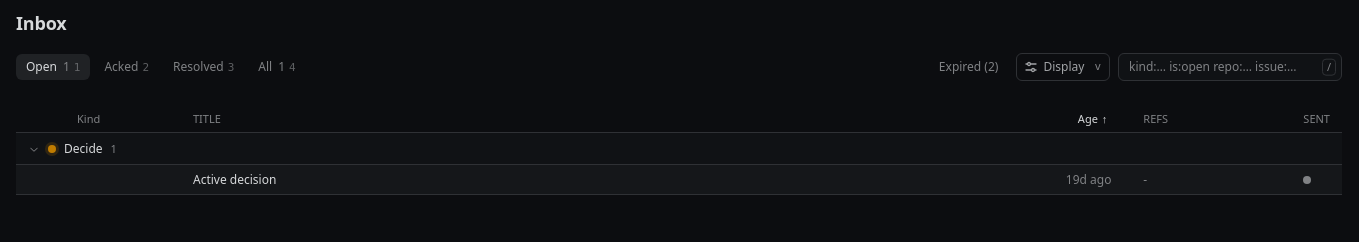
Scenario: Inbox view › hides expired open items by default and shows only them from the Expired chip
Expected: the text "Active decision" is shown, [193,171,276,188]
Expected: the text "Expired by kind" is not shown
What coordinates should you click on to do the following:
click the button "Expired (2)"
I would click on:
 (969, 67)
Its box is [929,54,1008,80].
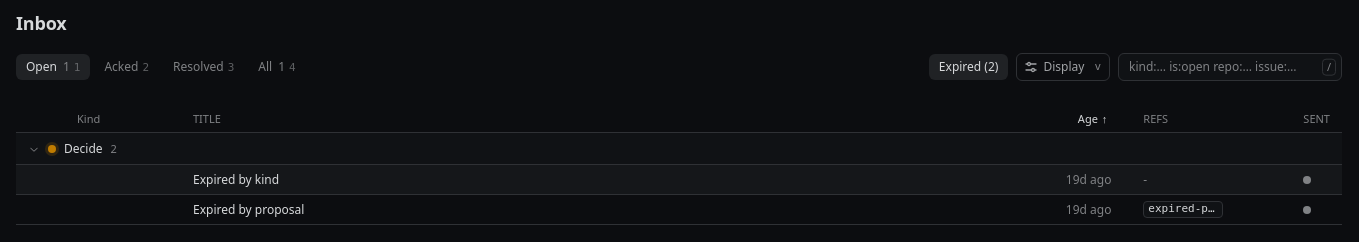
Result: the text "Expired by kind" is shown at [193,171,279,188]
Result: the text "Expired by proposal" is shown at [193,201,304,218]
Result: the text "Active decision" is gone
What coordinates should you click on to do the following:
click the tab "Resolved3"
I would click on:
 (204, 67)
Its box is [163,54,244,80].
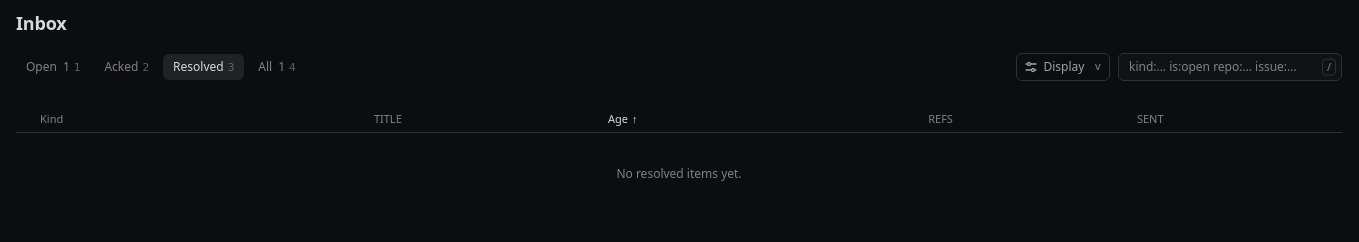
Result: the button "Expired" is gone
What coordinates should you click on to do the following:
click the tab "Open11"
I would click on:
 (53, 67)
Its box is [16,54,90,80].
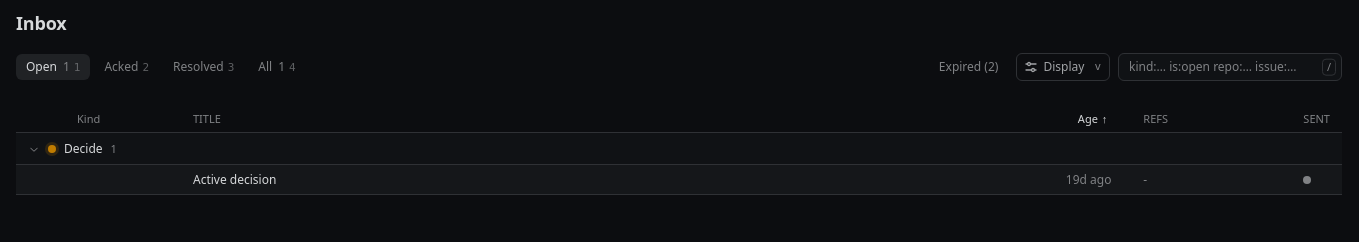
Result: the button "Expired (2)" is shown at [929,54,1008,80]
